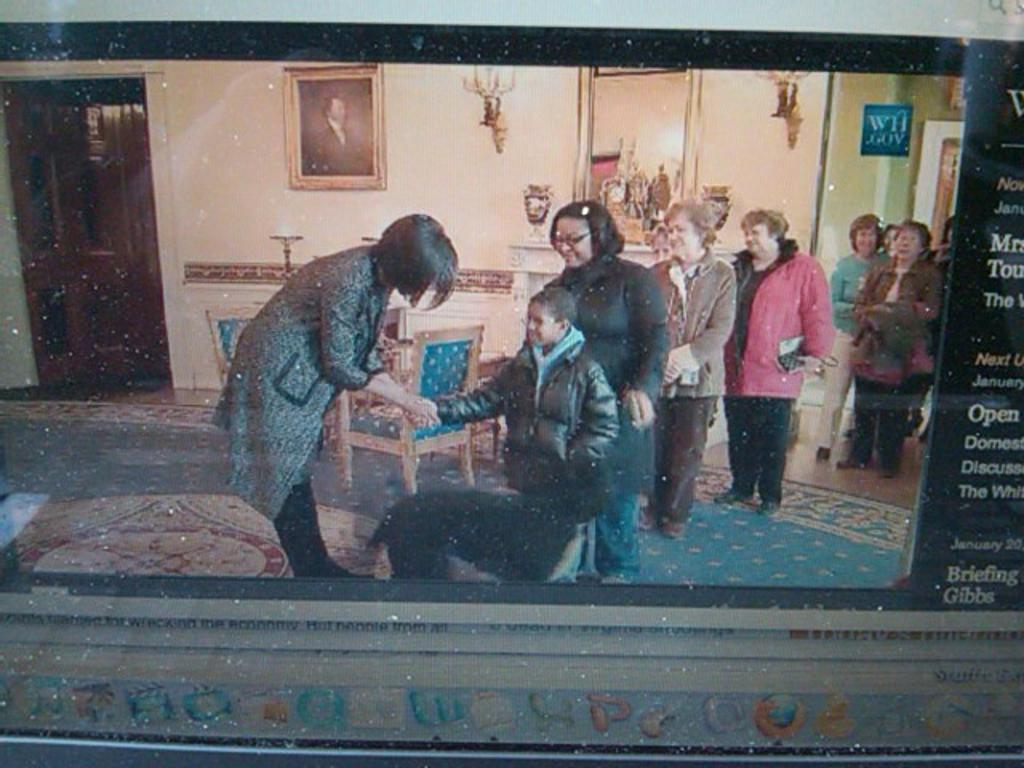face: (552, 219, 590, 267), (525, 310, 554, 345), (669, 220, 694, 254), (744, 227, 770, 251), (653, 241, 675, 269), (856, 231, 877, 253), (885, 231, 902, 256), (898, 235, 916, 257), (332, 102, 347, 121)
